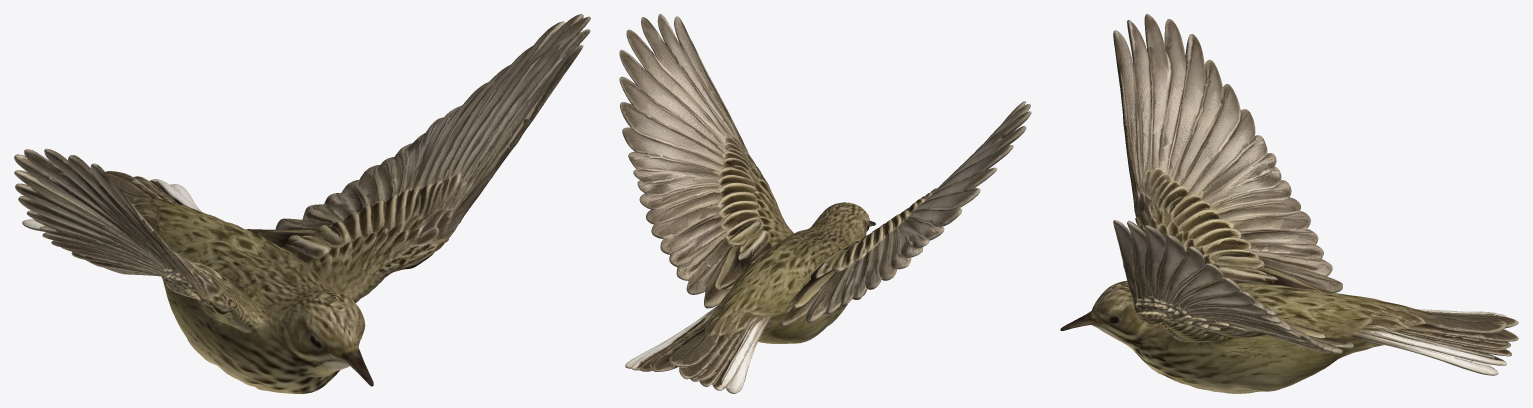
The model's file is Anthus_pratensis.glb.
3 views of the same model, side by side, from view 1: azimuth 30°, elevation 25°; view 2: azimuth 150°, elevation 25°; view 3: azimuth 270°, elevation 25° (orthographic). The views are drawn at different scales.
Visible parts, largest first — view 1: orient; view 2: orient; view 3: orient.
Part boxes in pixels (bbox=[...]): orient: bbox=[14, 14, 590, 393]; orient: bbox=[619, 14, 1031, 393]; orient: bbox=[1060, 14, 1518, 393].
Bounding box in the file's own units: 0.5 × 0.2889 × 0.4451.
Materials: 1 (1 with a texture image).
